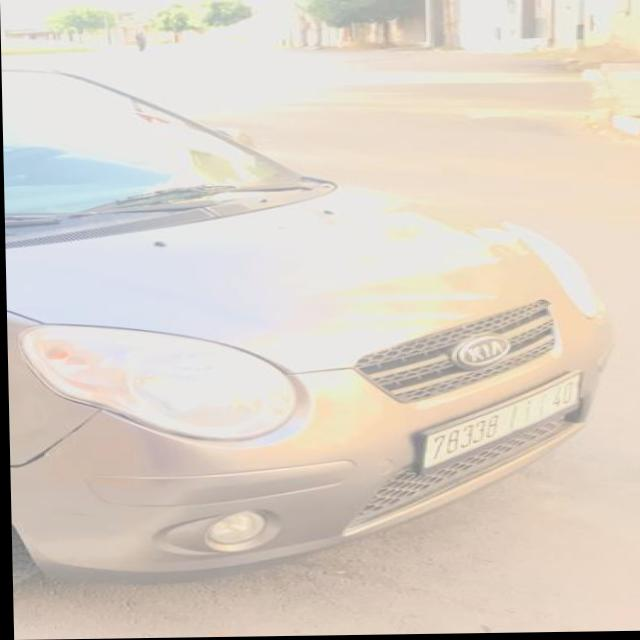License-Plate: (417, 372, 580, 471)
